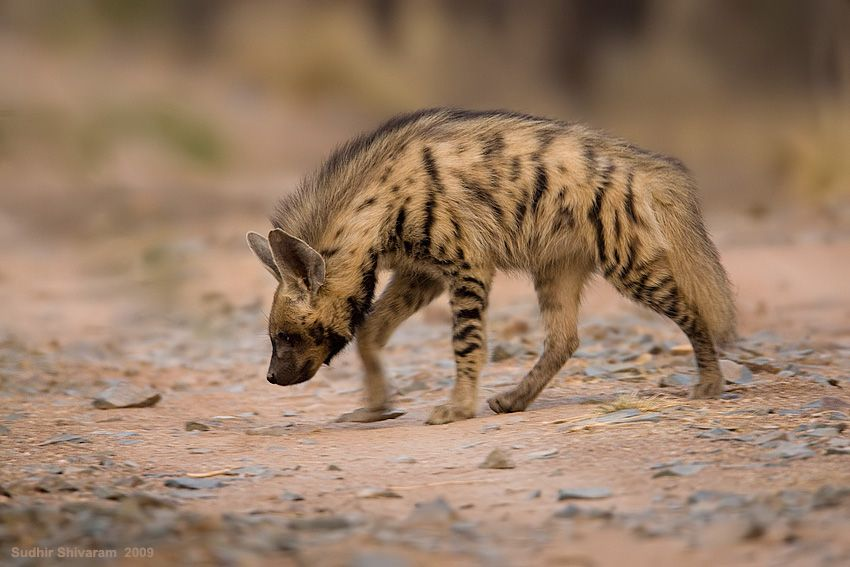hyena: (235, 79, 730, 434)
